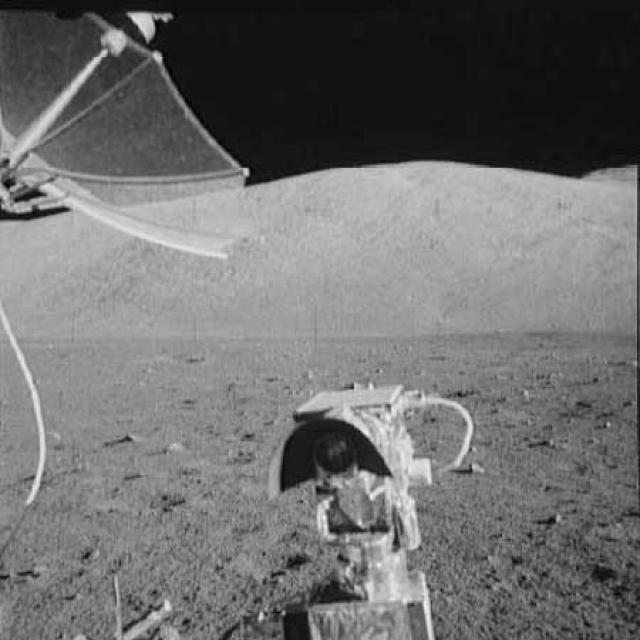artifact: (1, 3, 270, 263), (250, 360, 477, 638), (0, 303, 73, 566)
rock: (158, 436, 186, 458), (469, 458, 487, 476)
